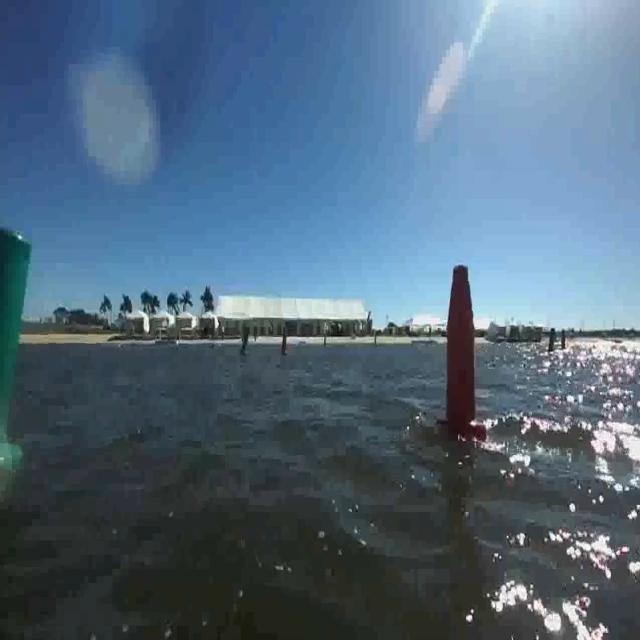green-column-buoy: (1, 226, 30, 472), (238, 326, 250, 357)
red-column-buoy: (443, 257, 489, 443), (279, 328, 290, 357)
